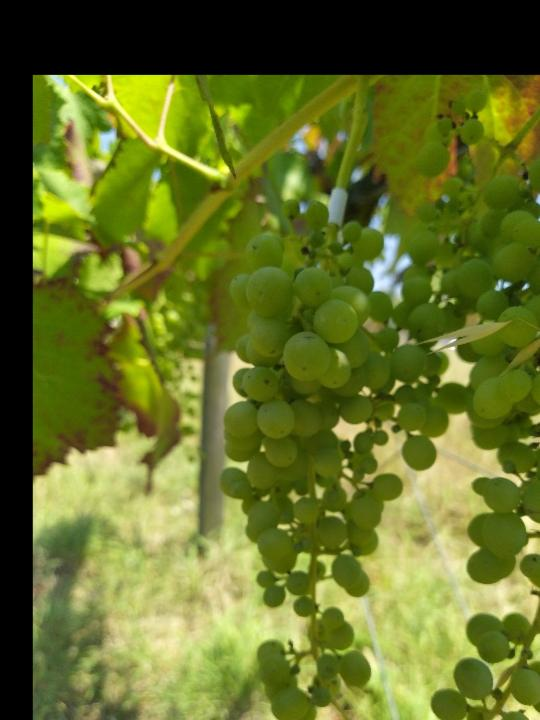grape: (218, 198, 468, 720)
